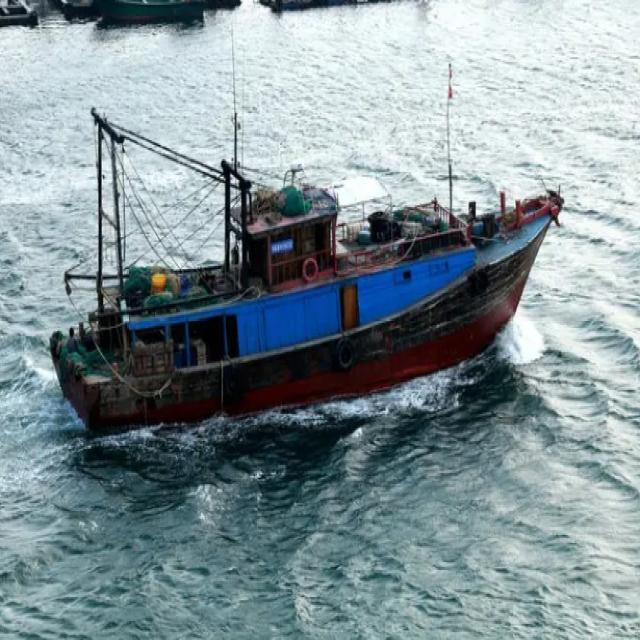fishing boat: (40, 61, 554, 442)
